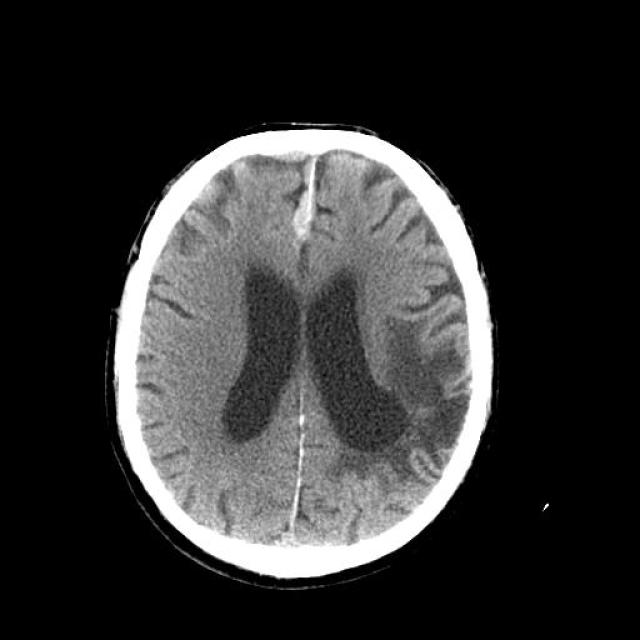Subdural: (250, 148, 348, 252)
